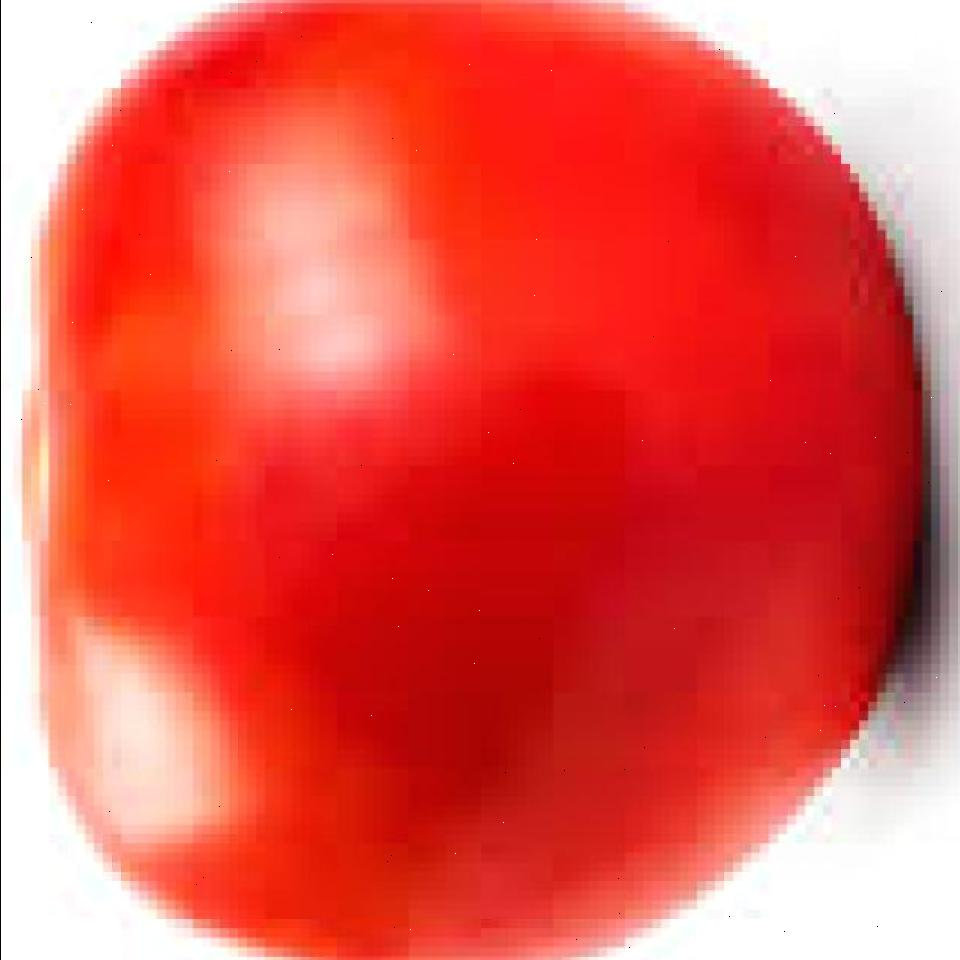Healthy: (18, 0, 919, 960)
